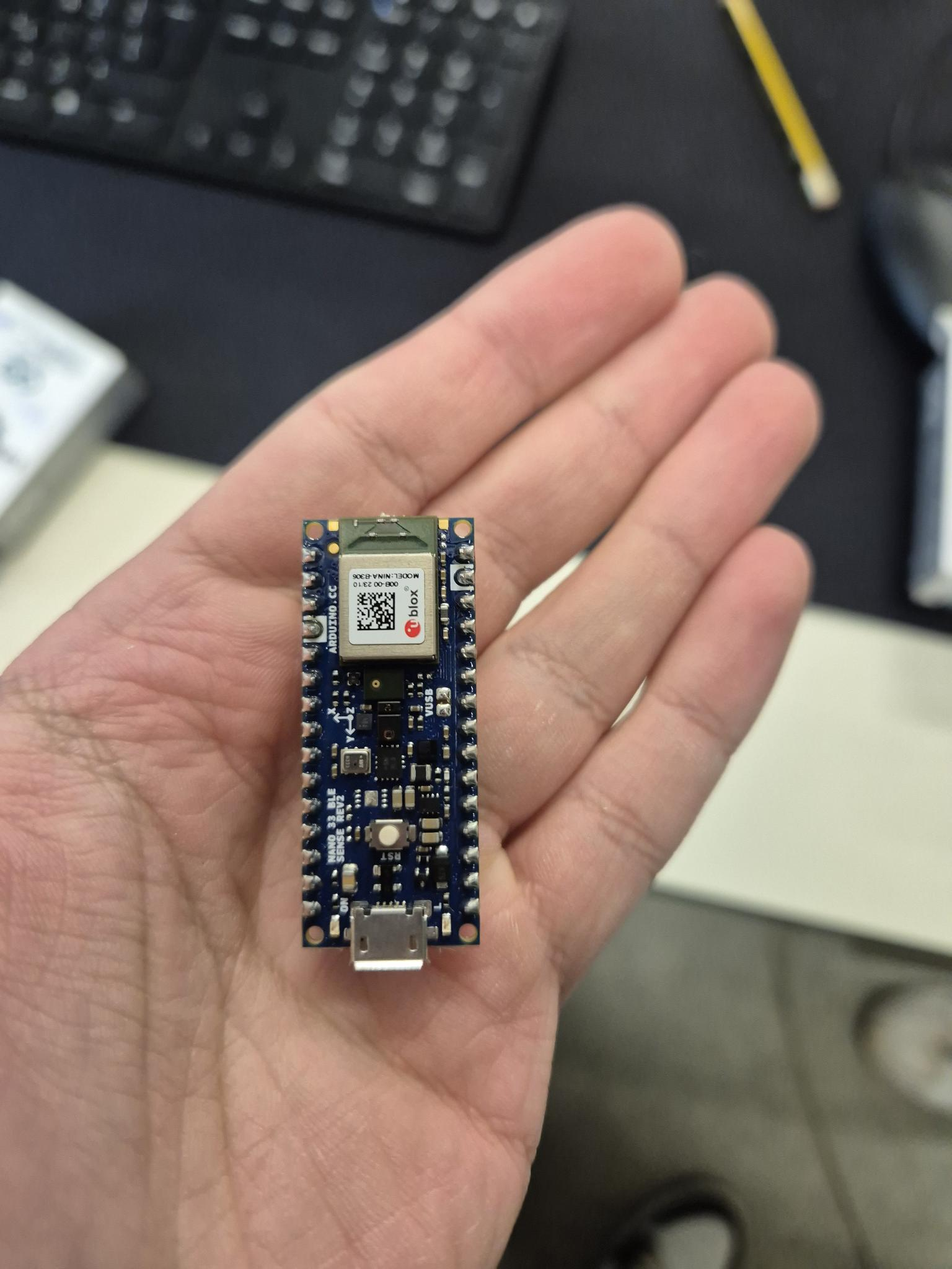arduino-nano-ble-sense: (302, 516, 478, 969)
